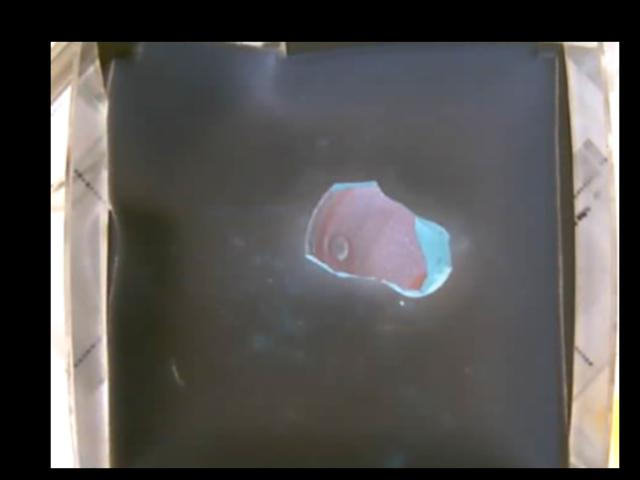China: (302, 180, 449, 296)
